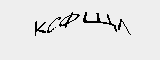К: (32, 17, 47, 39)
Л: (115, 17, 132, 38)
С: (46, 14, 60, 34)
Ф: (58, 10, 79, 30)
Щ: (82, 11, 119, 32)
